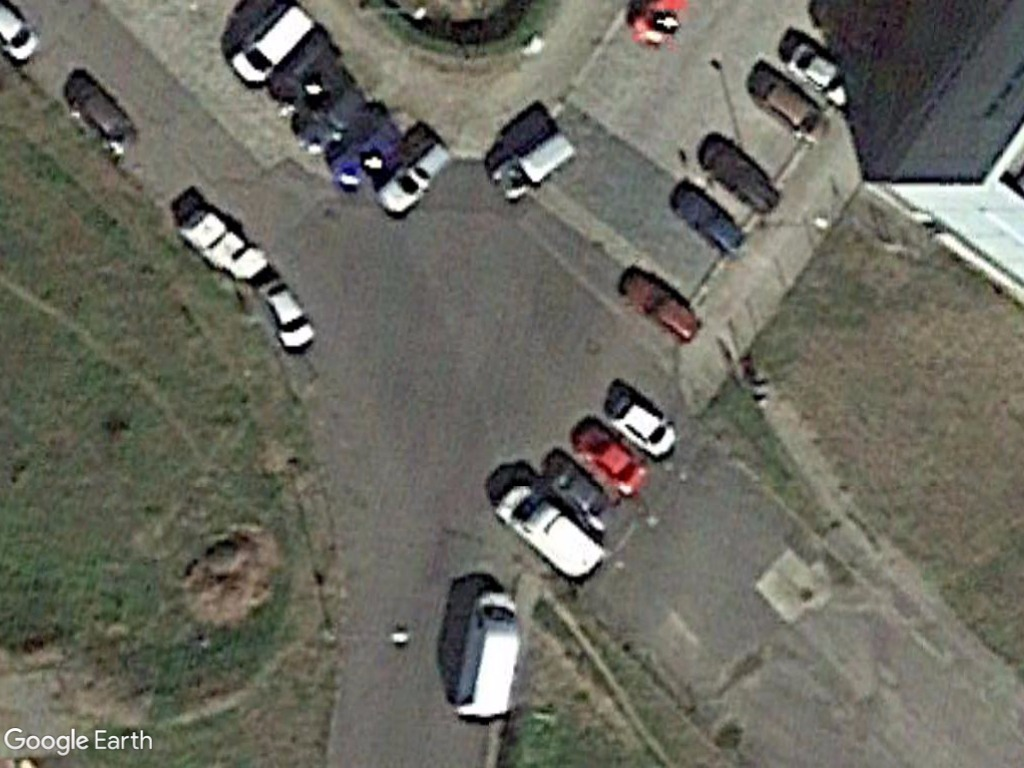car: (54, 69, 153, 161), (681, 135, 786, 216), (659, 172, 743, 273), (370, 139, 462, 229), (614, 266, 708, 345), (561, 418, 652, 494), (538, 453, 617, 537), (486, 135, 579, 204), (753, 68, 831, 149), (608, 384, 680, 464), (292, 84, 366, 160), (255, 280, 317, 361), (784, 35, 846, 115)
van: (440, 577, 530, 739), (492, 476, 616, 579), (229, 5, 318, 101)
